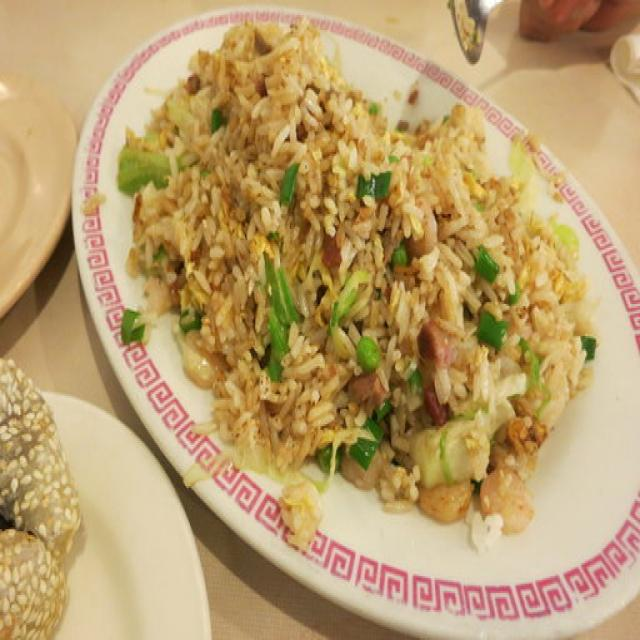Rice: (115, 21, 604, 556)
